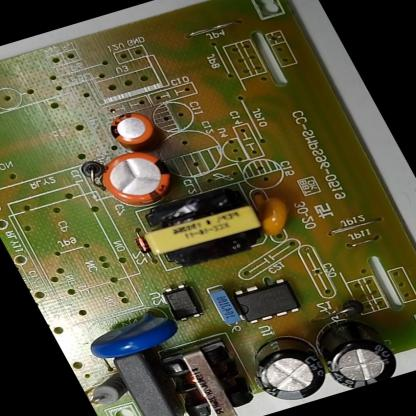Cap1: (80, 139, 190, 220)
Cap2: (99, 102, 170, 159)
Cap3: (231, 323, 343, 411)
Cap4: (294, 301, 407, 395)
MOSFET: (223, 271, 309, 331)
Mov: (75, 297, 192, 367)
Resistor: (79, 369, 135, 411)
Transformer: (126, 175, 280, 276), (146, 332, 266, 416)
